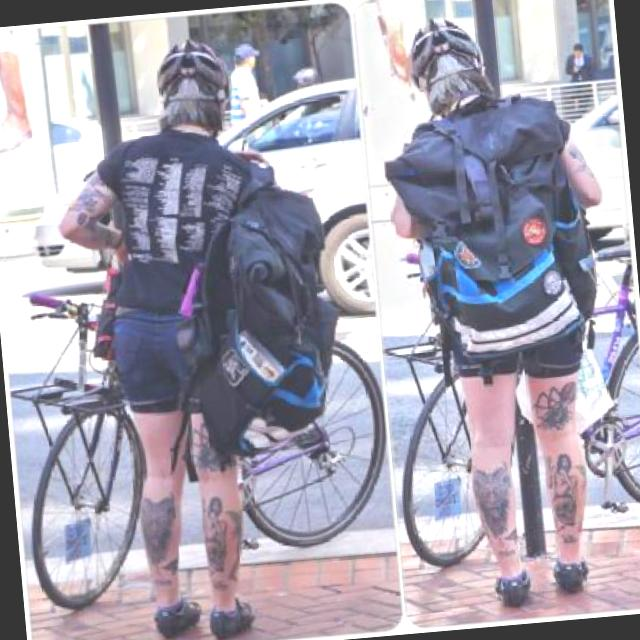Person: (377, 4, 640, 614), (55, 27, 316, 640), (0, 30, 32, 152), (222, 46, 266, 129), (562, 44, 596, 112), (282, 70, 322, 109)
